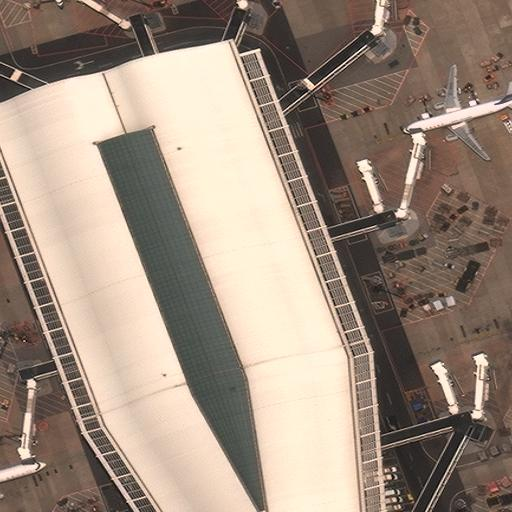Medium Civil Transport: (402, 64, 512, 159), (0, 452, 46, 511)
